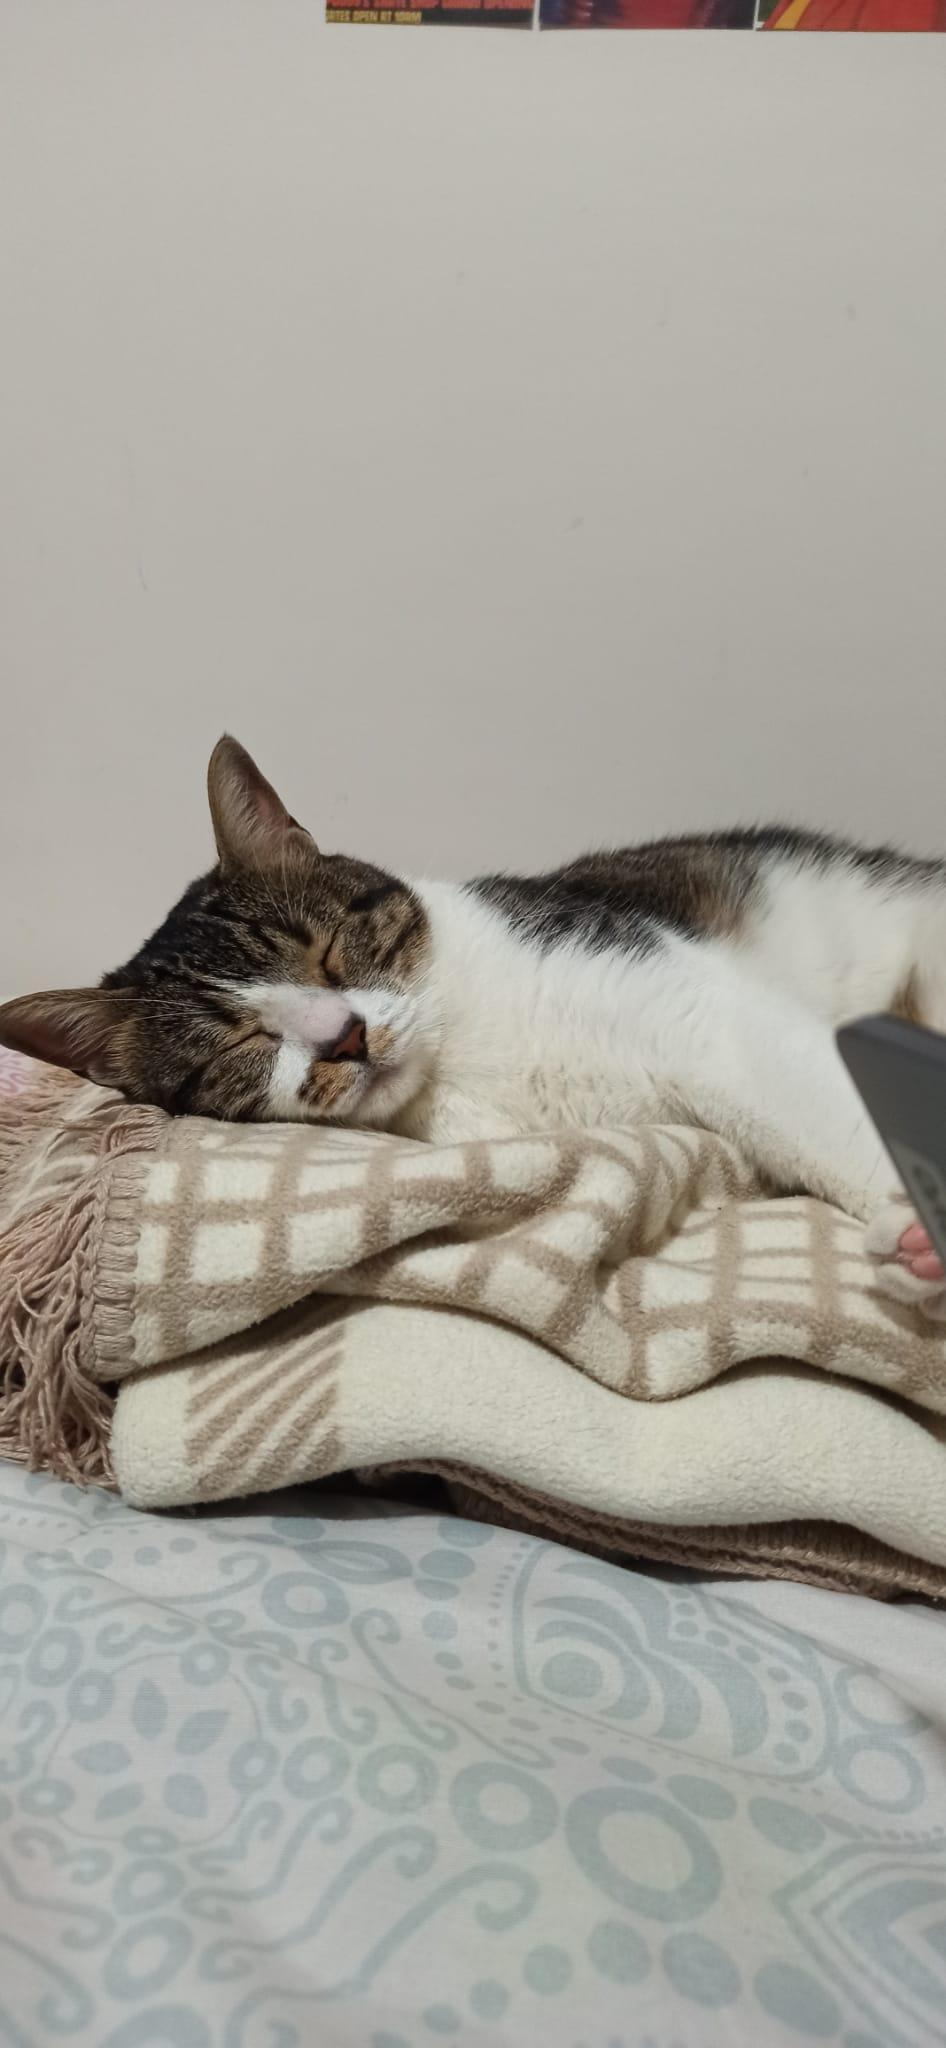kedo: (0, 724, 946, 1255)
